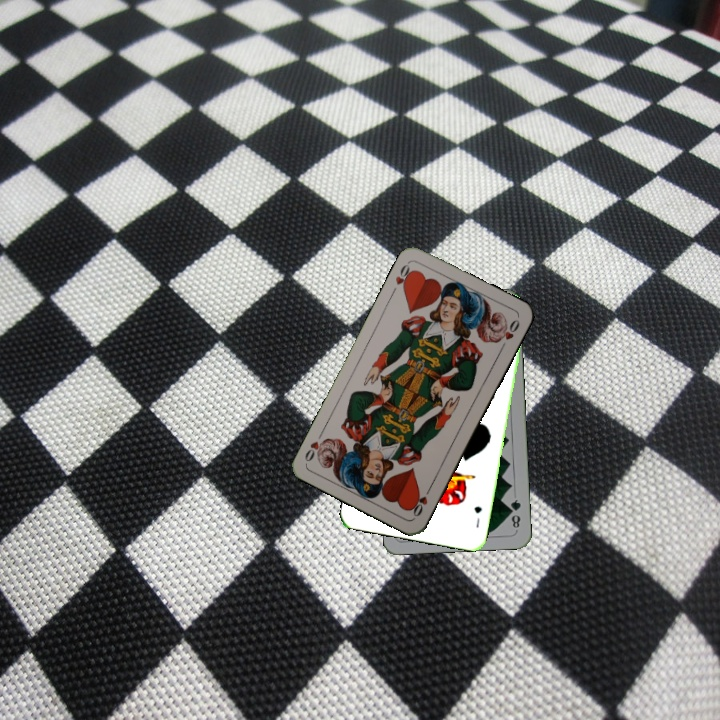G8: (506, 495, 523, 531)
GU: (470, 502, 485, 530)
HO: (408, 482, 434, 519), (391, 259, 417, 293)
